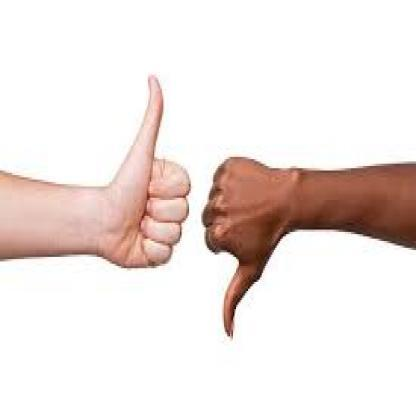thumb_down: (200, 153, 279, 342)
thumb_up: (105, 72, 190, 270)
